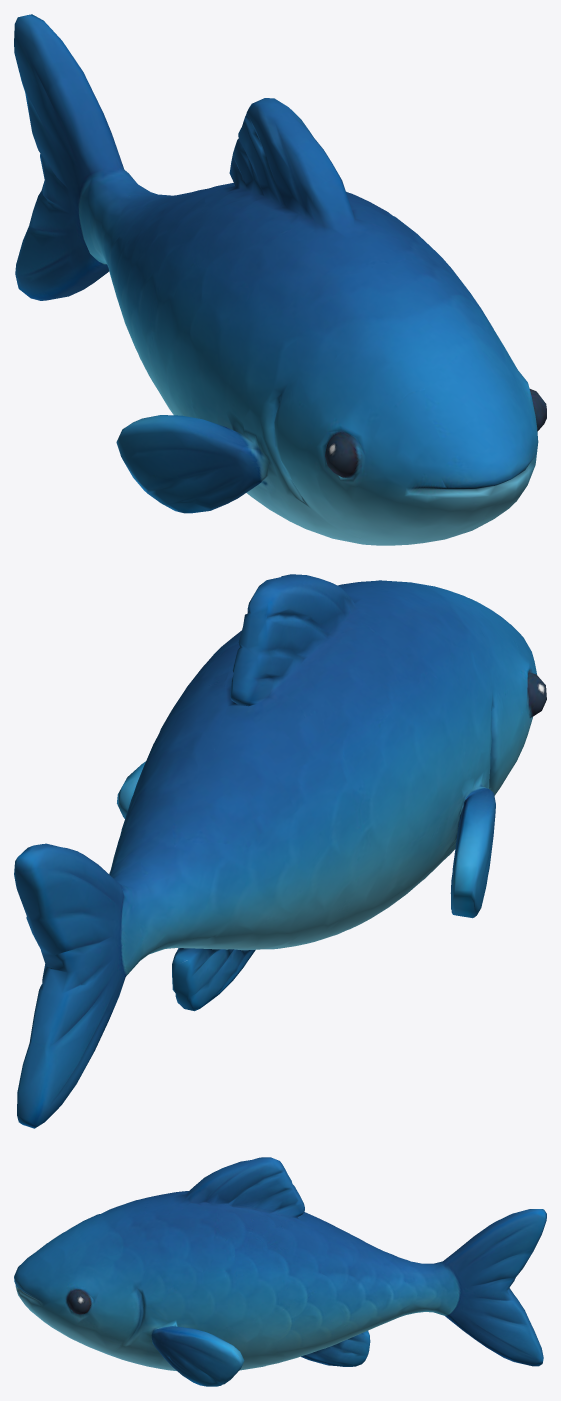
File: display.glb
3 views of the same model, one above another, from view 1: azimuth 30°, elevation 25°; view 2: azimuth 150°, elevation 25°; view 3: azimuth 270°, elevation 25° (orthographic). The views are drawn at different scales.
Visible parts, largest first — view 1: tripo_node_60ae907b-c13b-4686-8d5f-88428c688418; view 2: tripo_node_60ae907b-c13b-4686-8d5f-88428c688418; view 3: tripo_node_60ae907b-c13b-4686-8d5f-88428c688418.
Boxes of the visible parts, left/top/right/bottom form: tripo_node_60ae907b-c13b-4686-8d5f-88428c688418: left=14, top=14, right=546, bottom=545; tripo_node_60ae907b-c13b-4686-8d5f-88428c688418: left=14, top=574, right=546, bottom=1128; tripo_node_60ae907b-c13b-4686-8d5f-88428c688418: left=14, top=1157, right=546, bottom=1386.
Bounding box in the file's own units: 0.4373 × 0.43 × 1.
Materials: 1 (1 with a texture image).
